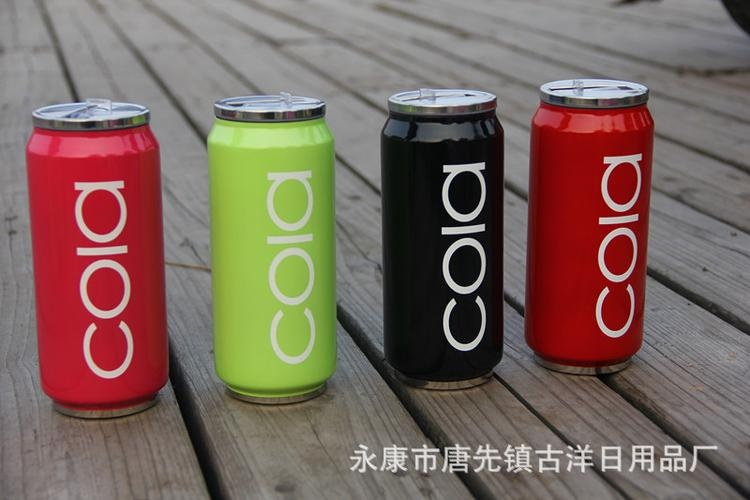Metal: (27, 99, 169, 420), (208, 95, 335, 404), (525, 79, 654, 376), (379, 89, 505, 391)
